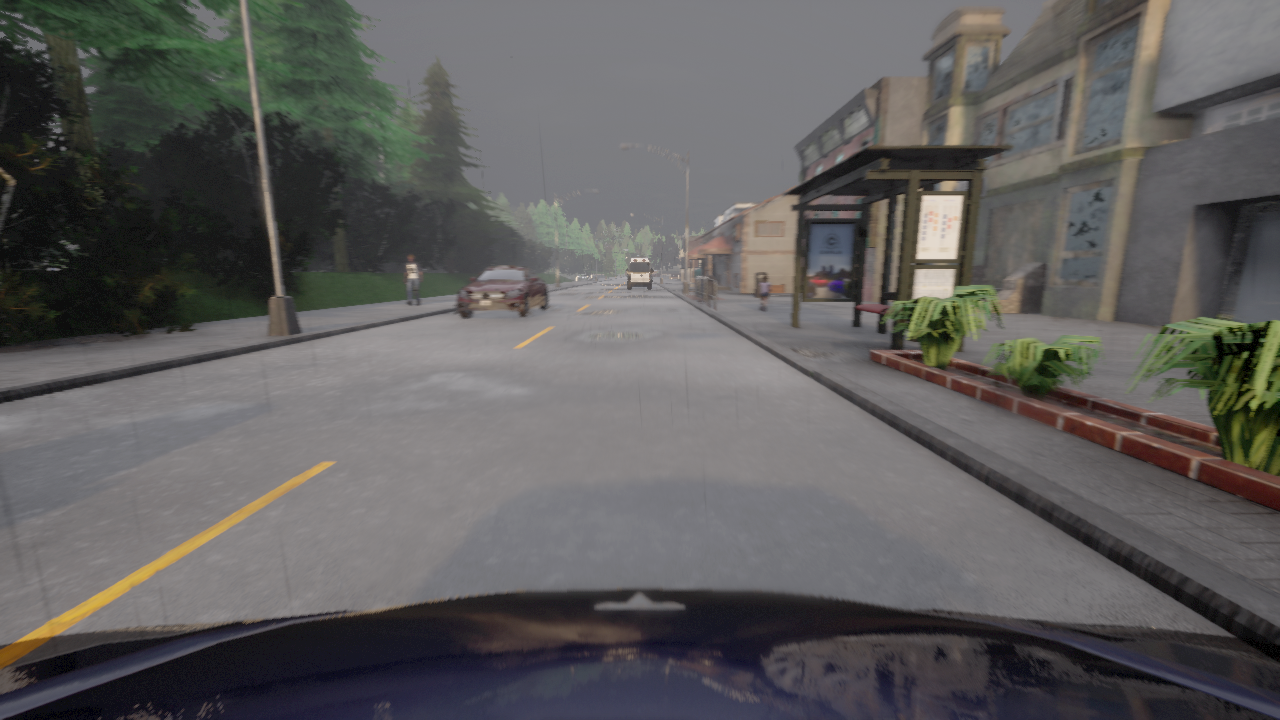cyclist: (0, 588, 1279, 719), (454, 266, 549, 317), (627, 257, 652, 288), (652, 273, 655, 276)
pedestrian: (405, 254, 421, 304), (758, 276, 770, 310), (478, 273, 480, 274)
